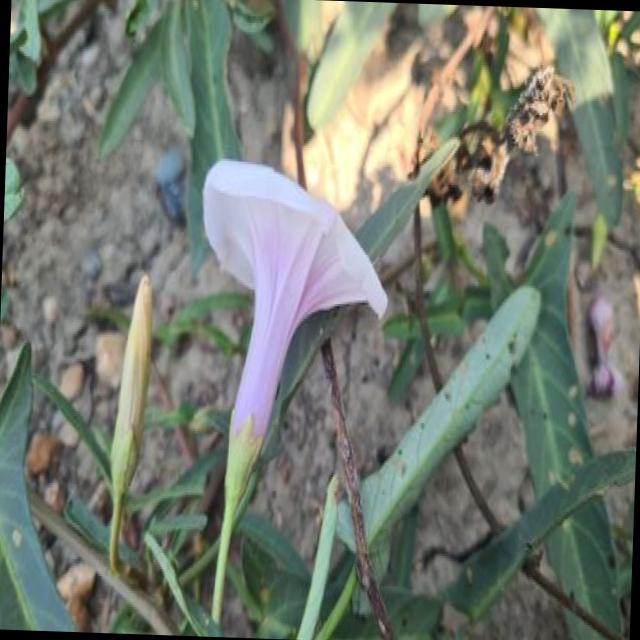ipomoea: (182, 150, 394, 630)
